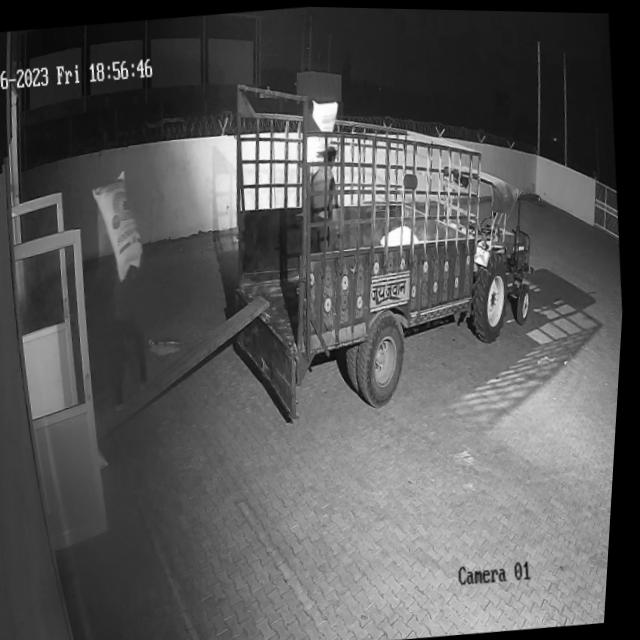sack: (87, 167, 151, 284)
